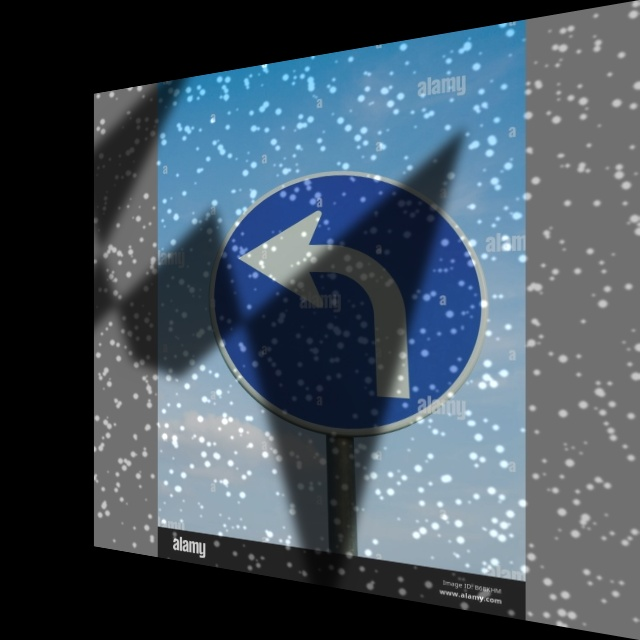Compulsory_Turn_Left_Ahead: (212, 161, 473, 447)
